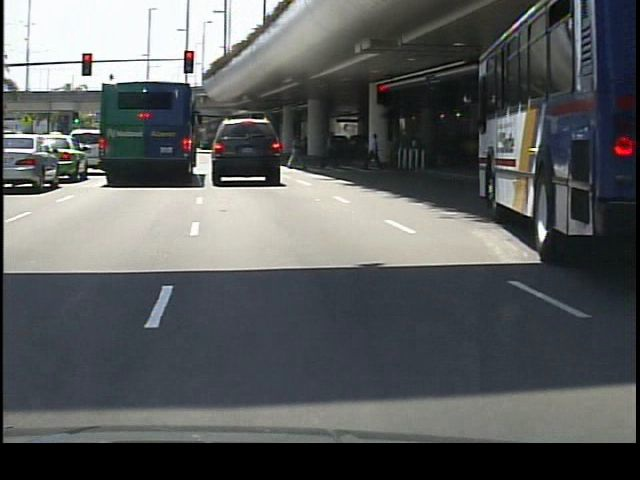person: (317, 126, 339, 173), (285, 128, 303, 173), (361, 131, 381, 171)
